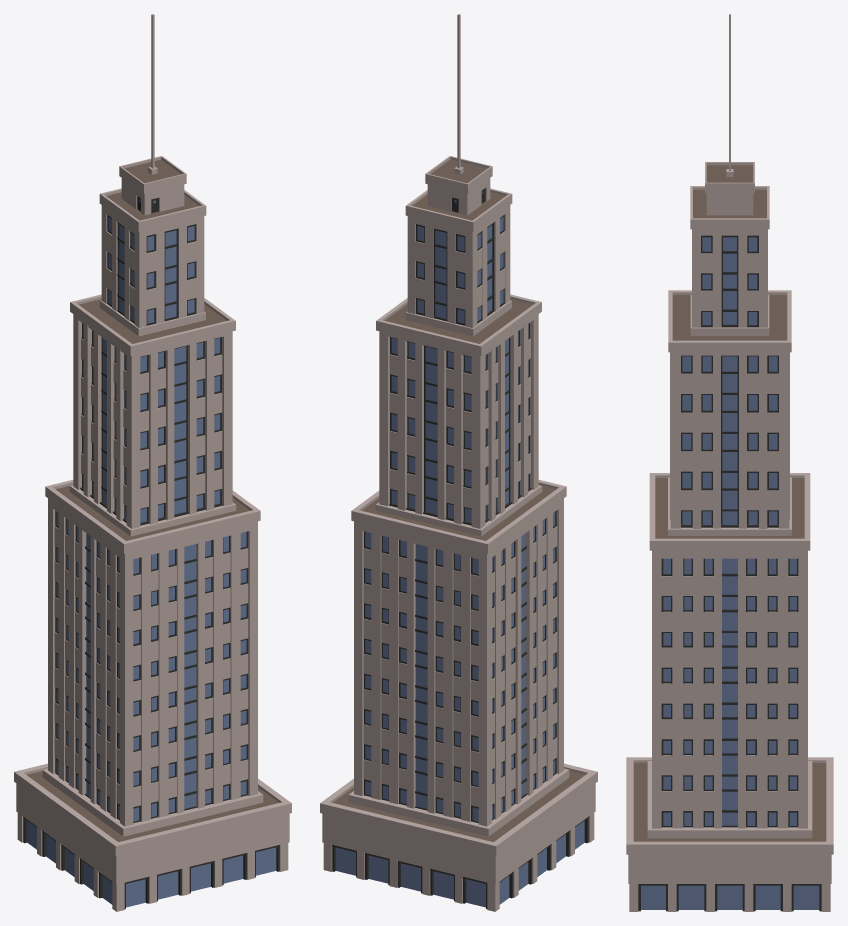
The model's file is LargeBuilding_18.fbx.
3 views of the same model, side by side, from view 1: azimuth 30°, elevation 25°; view 2: azimuth 150°, elevation 25°; view 3: azimuth 270°, elevation 25° (orthographic).
Parts seen in each view (by area): view 1: LargeBuilding_18; view 2: LargeBuilding_18; view 3: LargeBuilding_18.
Part boxes in pixels (x1=…): LargeBuilding_18: x1=14, y1=14, x2=291, y2=911; LargeBuilding_18: x1=320, y1=14, x2=597, y2=911; LargeBuilding_18: x1=626, y1=14, x2=833, y2=911.
Size of the model in its own units: 24.18 by 110 by 24.18.
